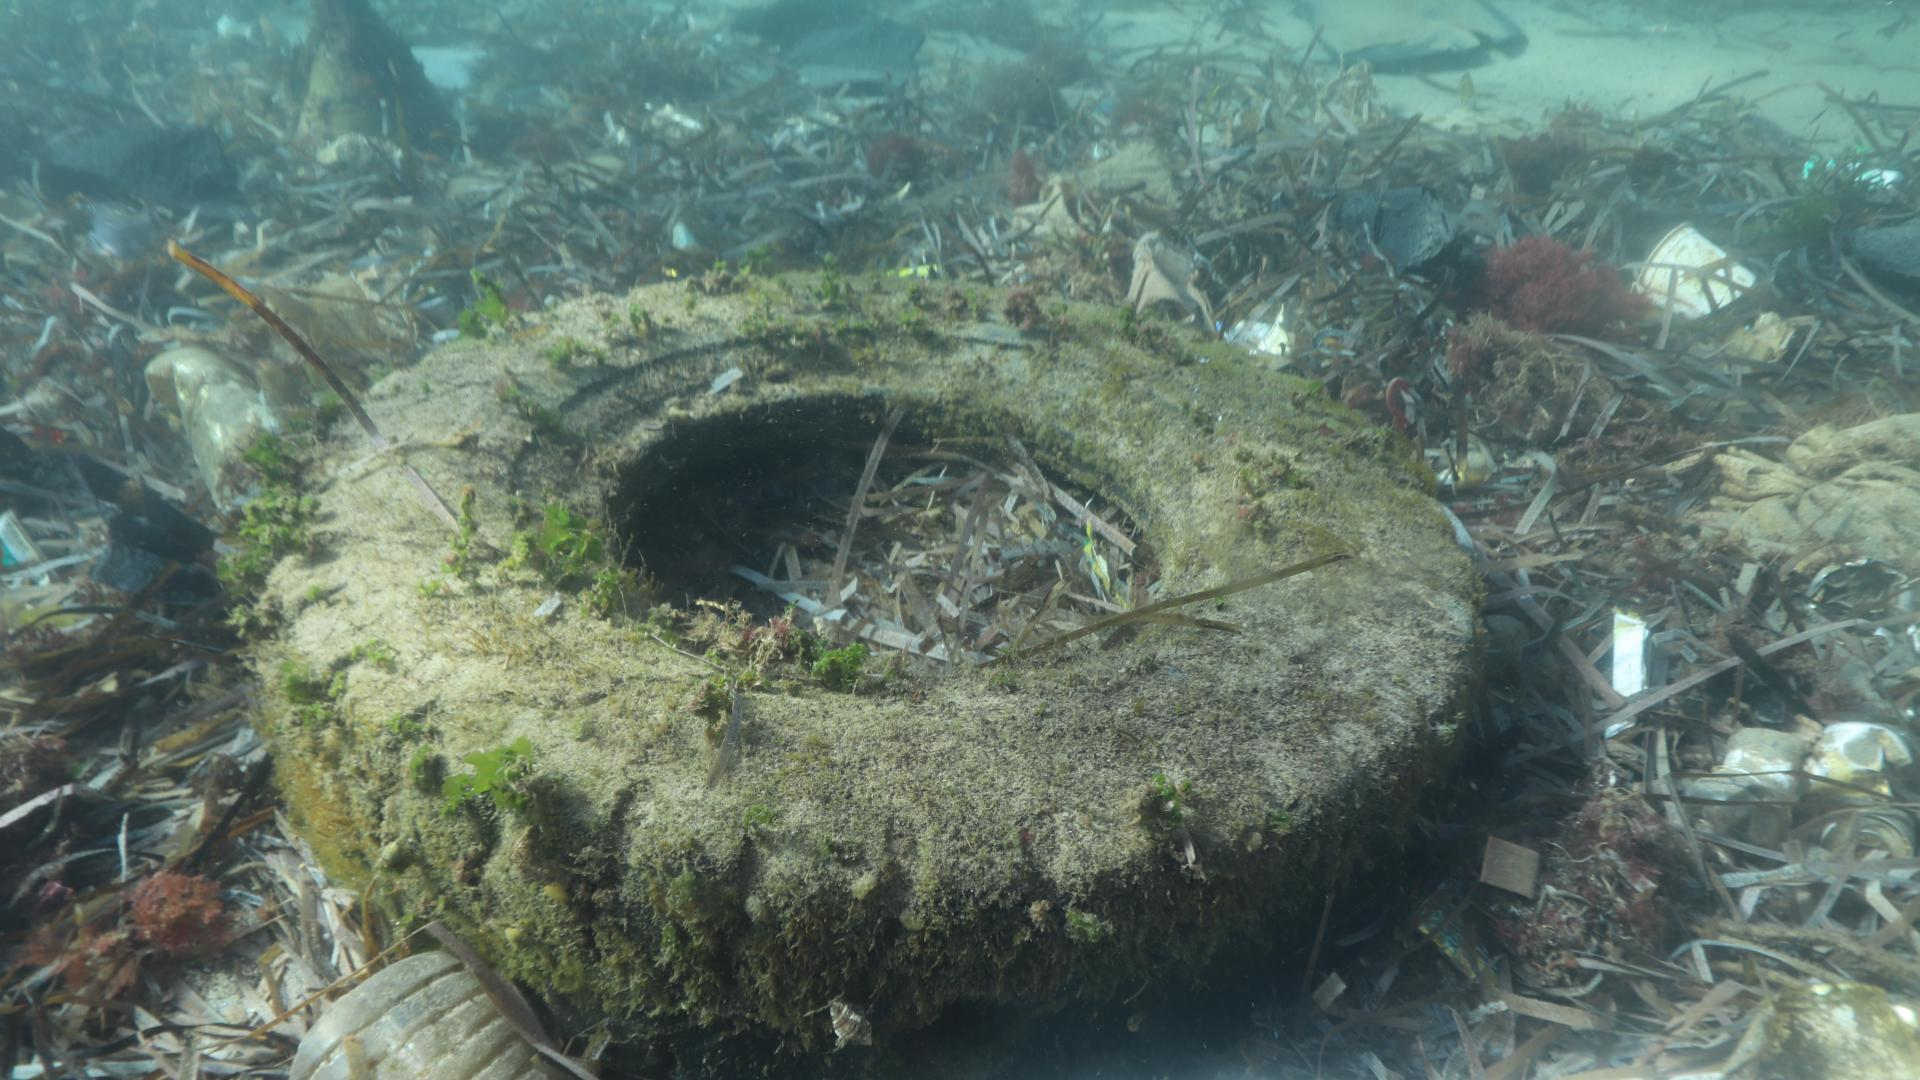tire: (258, 270, 1480, 1067)
